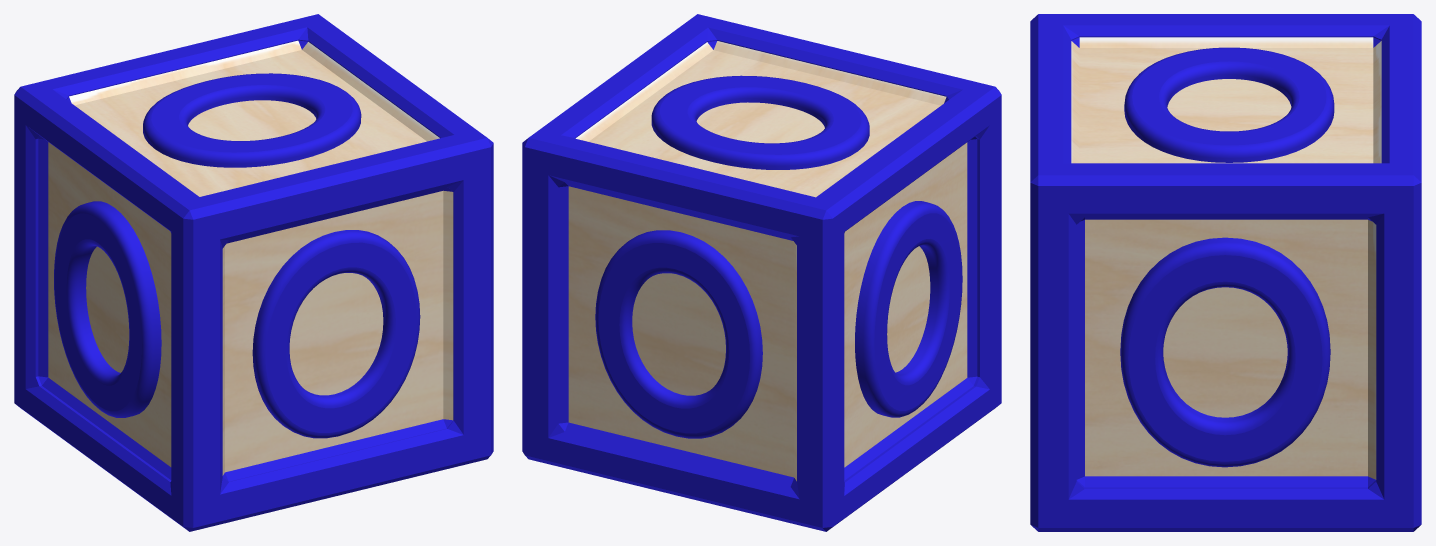
The model's file is block_O.fbx.
3 renders of one model, left to right at view 1: azimuth 30°, elevation 25°; view 2: azimuth 150°, elevation 25°; view 3: azimuth 270°, elevation 25°, orthographic. The views are drawn at different scales.
Visible parts, largest first — view 1: Cube, text_O.001, text_O.002, text_O; view 2: Cube, text_O.001, text_O.002, text_O; view 3: Cube, text_O.002, text_O.
Boxes of the visible parts, x1,y1,x2,y2 form: Cube: (14, 14, 493, 531); text_O.001: (252, 230, 420, 438); text_O.002: (54, 201, 161, 417); text_O: (143, 73, 361, 167); Cube: (522, 14, 1001, 531); text_O.001: (595, 230, 762, 438); text_O.002: (855, 201, 962, 417); text_O: (651, 75, 869, 169); Cube: (1030, 14, 1421, 531); text_O.002: (1120, 237, 1330, 467); text_O: (1124, 47, 1334, 162).
Size of the model in its own units: 2036 by 2011 by 2000.
4 materials, 1 textured.
